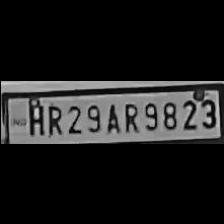2: (63, 100, 81, 134), (179, 96, 197, 130)
3: (198, 95, 216, 129)
8: (160, 98, 178, 130)
9: (82, 99, 102, 133), (139, 97, 159, 130)
A: (103, 98, 121, 132)
H: (24, 100, 44, 134)
R: (42, 100, 62, 136), (119, 98, 139, 132)
